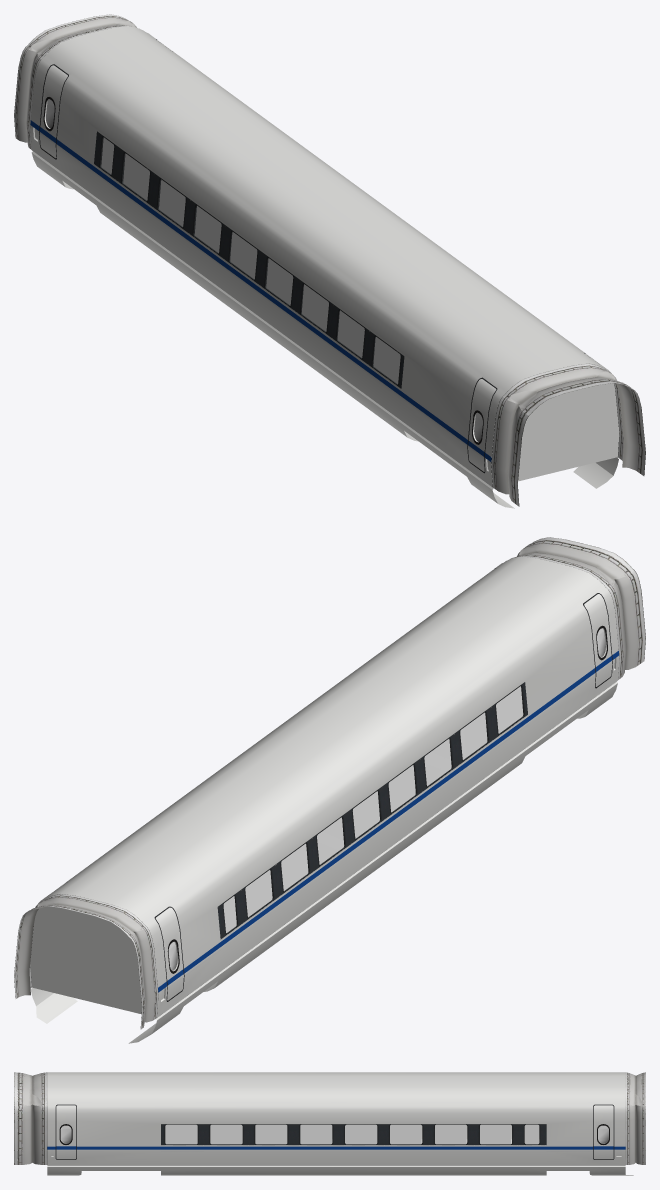
File: crh车箱26m统一.fbx
The picture shows the model from 3 angles, top to bottom: view 1: azimuth 30°, elevation 25°; view 2: azimuth 150°, elevation 25°; view 3: azimuth 270°, elevation 25°; orthographic projection. The views are drawn at different scales.
Visible parts, largest first — view 1: 车厢; view 2: 车厢; view 3: 车厢.
Part boxes in pixels (bbox=[...]): 车厢: bbox=[14, 14, 645, 508]; 车厢: bbox=[14, 537, 645, 1043]; 车厢: bbox=[14, 1072, 645, 1175].
Size of the model in its own units: 152 by 145 by 1024.
